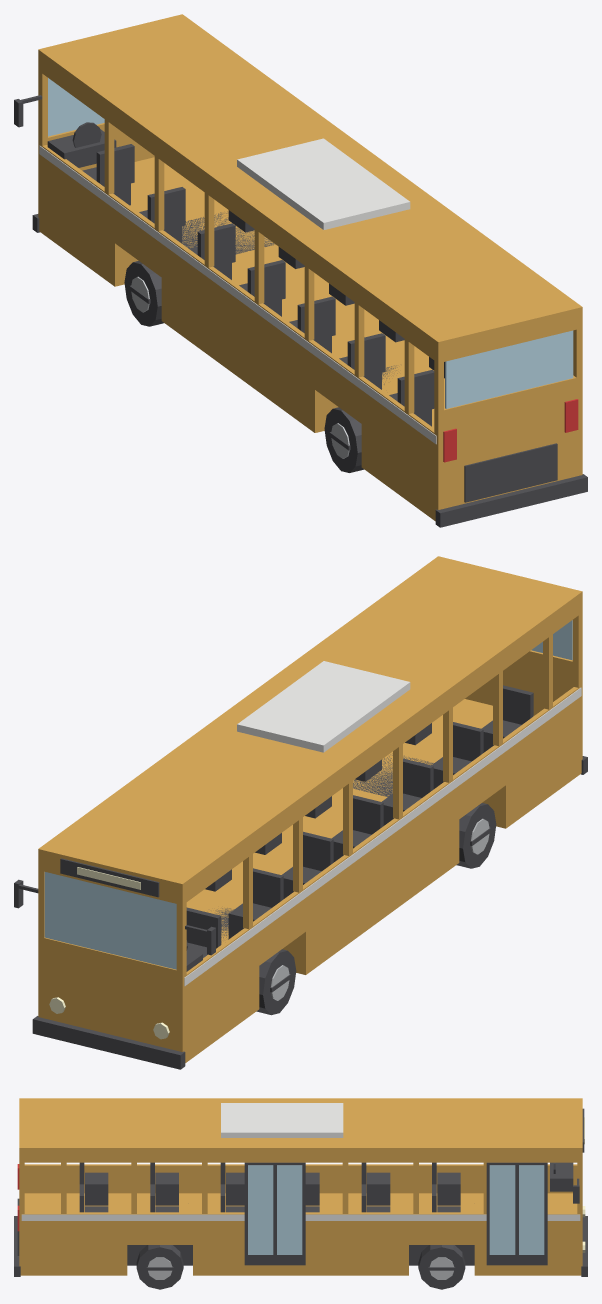
File: bus.glb
The picture shows the model from 3 angles, top to bottom: view 1: azimuth 30°, elevation 25°; view 2: azimuth 150°, elevation 25°; view 3: azimuth 270°, elevation 25°; orthographic projection. The views are drawn at different scales.
Visible parts, largest first — view 1: body, wheel_FL, wheel_RL; view 2: body, wheel_FL, wheel_RL; view 3: body, wheel_FR, wheel_RR.
Part boxes in pixels (left/top/right/bottom): body: left=14, top=14, right=587, bottom=527; wheel_FL: left=124, top=261, right=163, bottom=326; wheel_RL: left=324, top=407, right=363, bottom=472; body: left=14, top=556, right=587, bottom=1069; wheel_FL: left=256, top=949, right=296, bottom=1015; wheel_RL: left=456, top=803, right=496, bottom=868; body: left=14, top=1098, right=587, bottom=1276; wheel_FR: left=418, top=1245, right=465, bottom=1289; wheel_RR: left=136, top=1245, right=183, bottom=1289.
Bounding box in the file's own units: 3.42 × 3.48 × 12.22.
